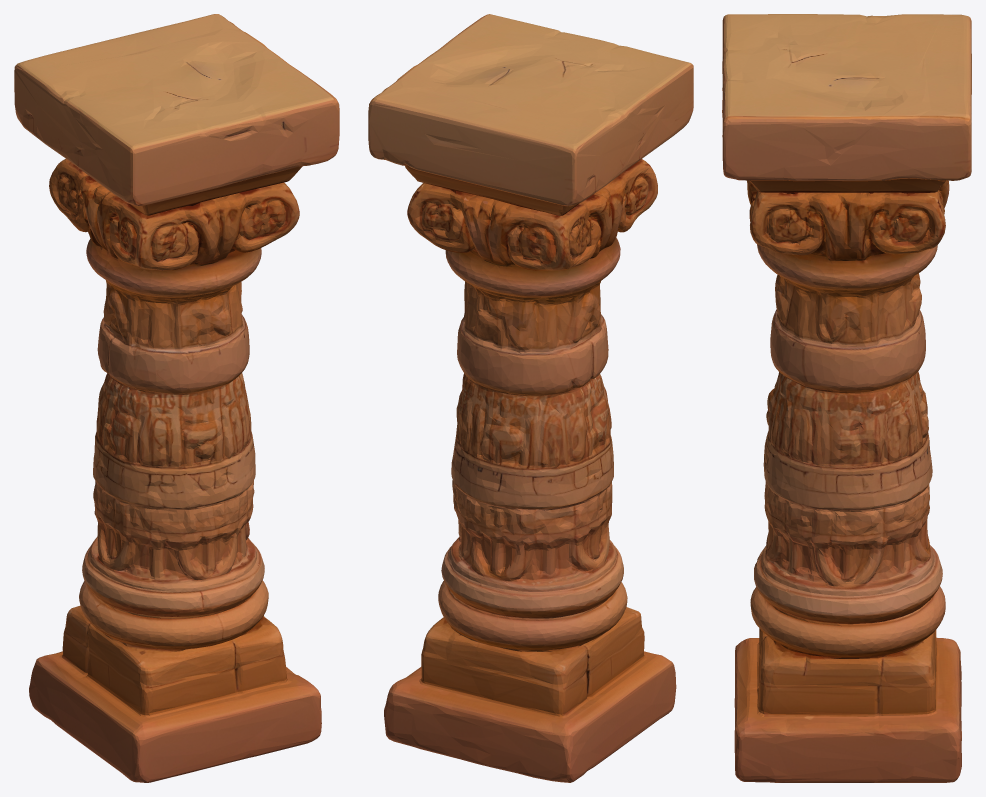
File: carved-sandstone-pilaster-optimized.glb
The picture shows the model from 3 angles, left to right: view 1: azimuth 30°, elevation 25°; view 2: azimuth 150°, elevation 25°; view 3: azimuth 270°, elevation 25°; orthographic projection. The views are drawn at different scales.
Visible parts, largest first — view 1: b4ac8c60-8cb6-4937-b855-adf7046dccc8_texturing.obj; view 2: b4ac8c60-8cb6-4937-b855-adf7046dccc8_texturing.obj; view 3: b4ac8c60-8cb6-4937-b855-adf7046dccc8_texturing.obj.
Boxes of the visible parts, x1,y1,x2,y2 form: b4ac8c60-8cb6-4937-b855-adf7046dccc8_texturing.obj: (14,14,339,782); b4ac8c60-8cb6-4937-b855-adf7046dccc8_texturing.obj: (368,14,693,782); b4ac8c60-8cb6-4937-b855-adf7046dccc8_texturing.obj: (722,14,971,782).
Bounding box in the file's own units: 1.18 × 3.5 × 1.18.
Materials: 1 (1 with a texture image).
